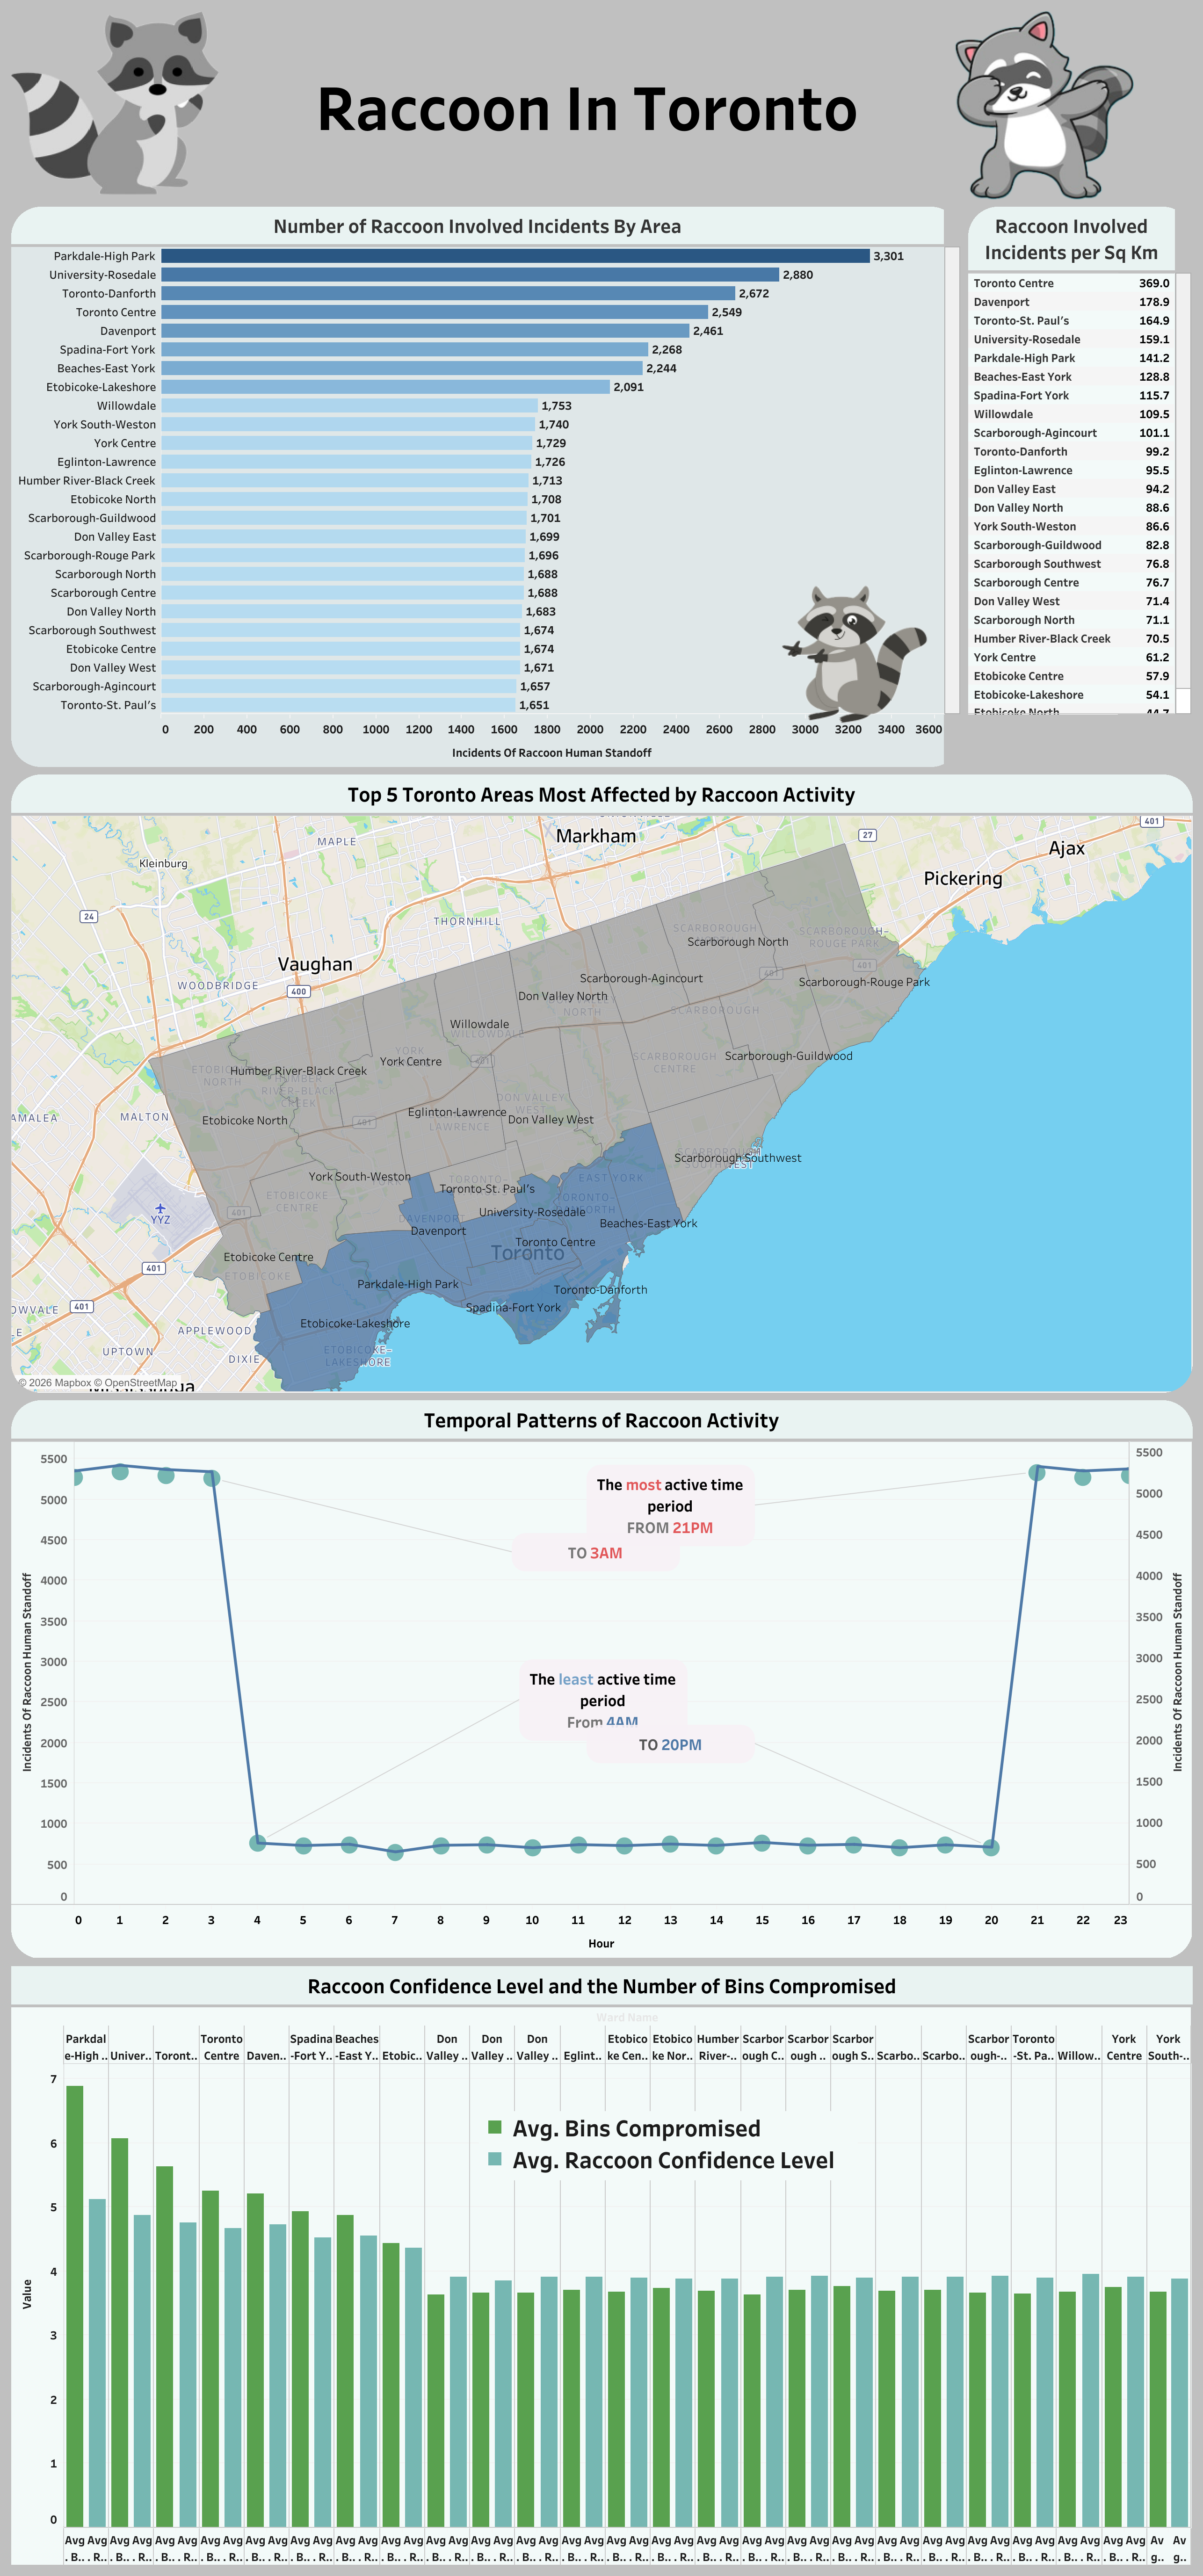

What the dashboard file says about the page in this screenshot:
{"tool":"tableau","page":{"name":"Dashboard 1","canvas":[1000,1000],"units":"permille","ordinal":0},"visuals":[{"type":"worksheet","title":"Sheet 1","mark":"Automatic","rows":["ward_name"],"cols":["incidents_of_raccoon_human_standoff"],"box":[6.5,9.9,424.7,508.6]},{"type":"worksheet","title":"Sheet 4","mark":"Automatic","box":[431.2,9.9,378.4,508.6]},{"type":"worksheet","title":"Sheet 6","mark":"Automatic","rows":["AREA_NAME"],"box":[809.6,9.9,183.9,508.6]},{"type":"worksheet","title":"Sheet 3","mark":"Automatic","rows":["incidents_of_raccoon_human_standoff"],"cols":["hour"],"box":[6.5,518.5,493.1,471.6]},{"type":"worksheet","title":"Sheet 2","mark":"Automatic","cols":["ward_name"],"box":[499.6,518.5,493.9,471.6]}]}

Visuals, with their boxes on the dashboard's canvas, which has no fixed pixel size, in thousandths of its width and height (x1, y1, x2, y2). These are canvas units, not pixel positions in the 1203x2576 screenshot, which may show the page scaled, cropped or inside an application window:
"Sheet 1" worksheet: 6/10/431/518
"Sheet 4" worksheet: 431/10/810/518
"Sheet 6" worksheet: 810/10/994/518
"Sheet 3" worksheet: 6/518/500/990
"Sheet 2" worksheet: 500/518/994/990
